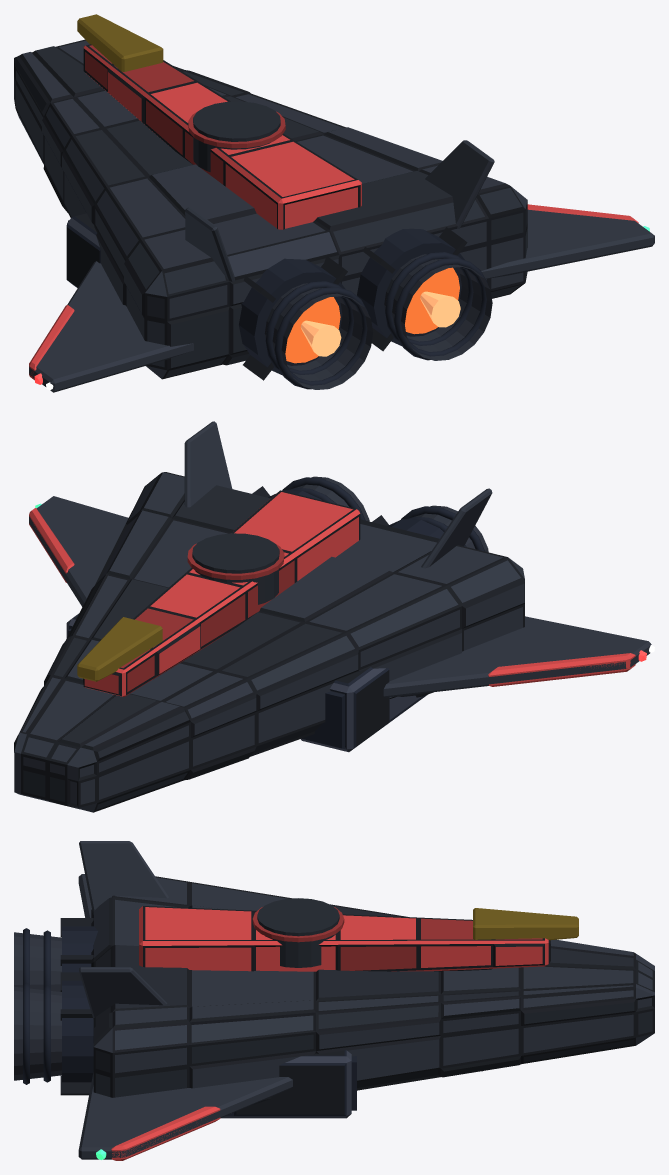
File: corsair.glb
The picture shows the model from 3 angles, top to bottom: view 1: azimuth 30°, elevation 25°; view 2: azimuth 150°, elevation 25°; view 3: azimuth 270°, elevation 25°; orthographic projection. The views are drawn at different scales.
Parts seen in each view (by area): view 1: corsair_mesh; view 2: corsair_mesh; view 3: corsair_mesh.
Boxes of the visible parts, x1,y1,x2,y2 form: corsair_mesh: [14, 14, 654, 392]; corsair_mesh: [14, 421, 651, 812]; corsair_mesh: [14, 841, 654, 1160].
Size of the model in its own units: 8.74 by 2.23 by 8.45.
